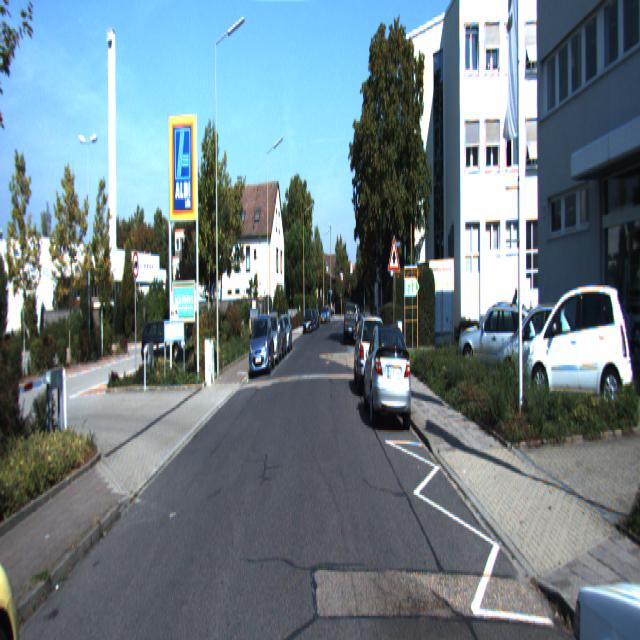Car: (522, 276, 635, 422), (489, 296, 584, 404), (455, 299, 539, 387), (361, 320, 413, 433), (353, 312, 387, 401), (140, 316, 189, 369), (248, 314, 275, 377), (344, 300, 357, 345)
